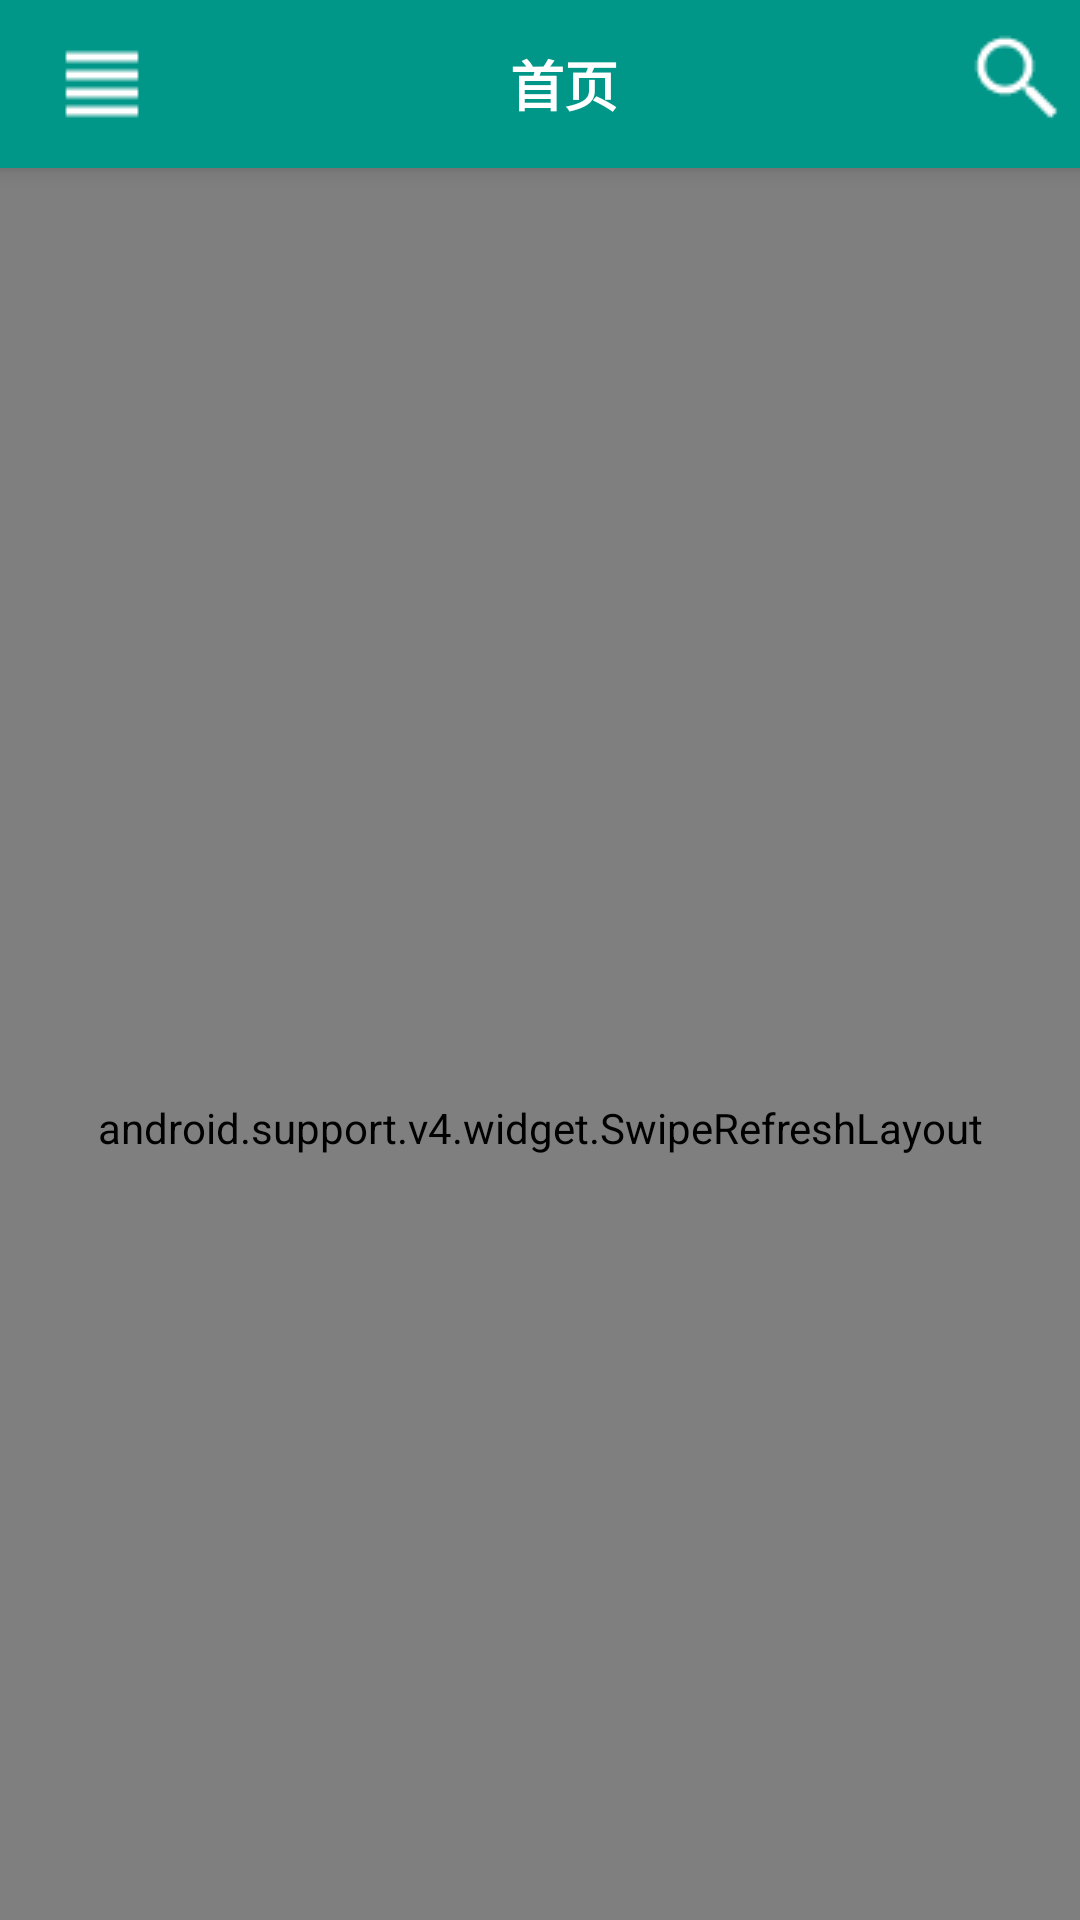

Locate icon controls on the screen. Image size 1080*1920, boxes as Rect(x1, y1, x2, y2).
drawer: Rect(65, 50, 139, 118)
search: Rect(975, 36, 1057, 118)
